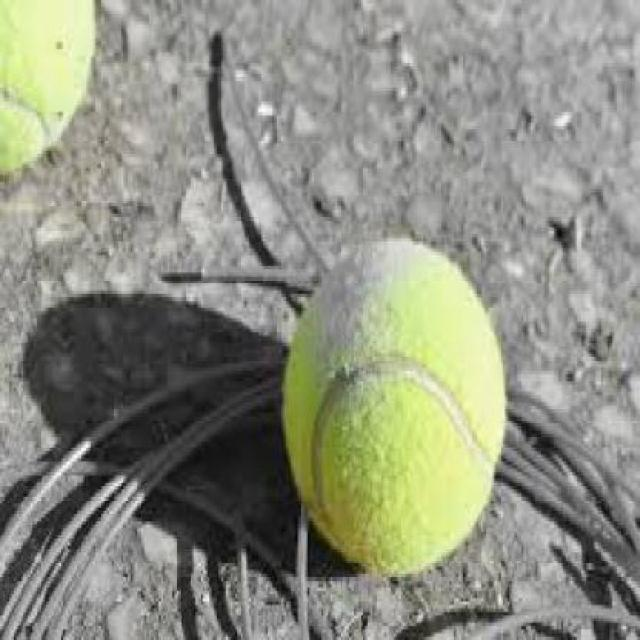Tennis_Ball: (274, 236, 512, 570), (0, 0, 97, 183)
